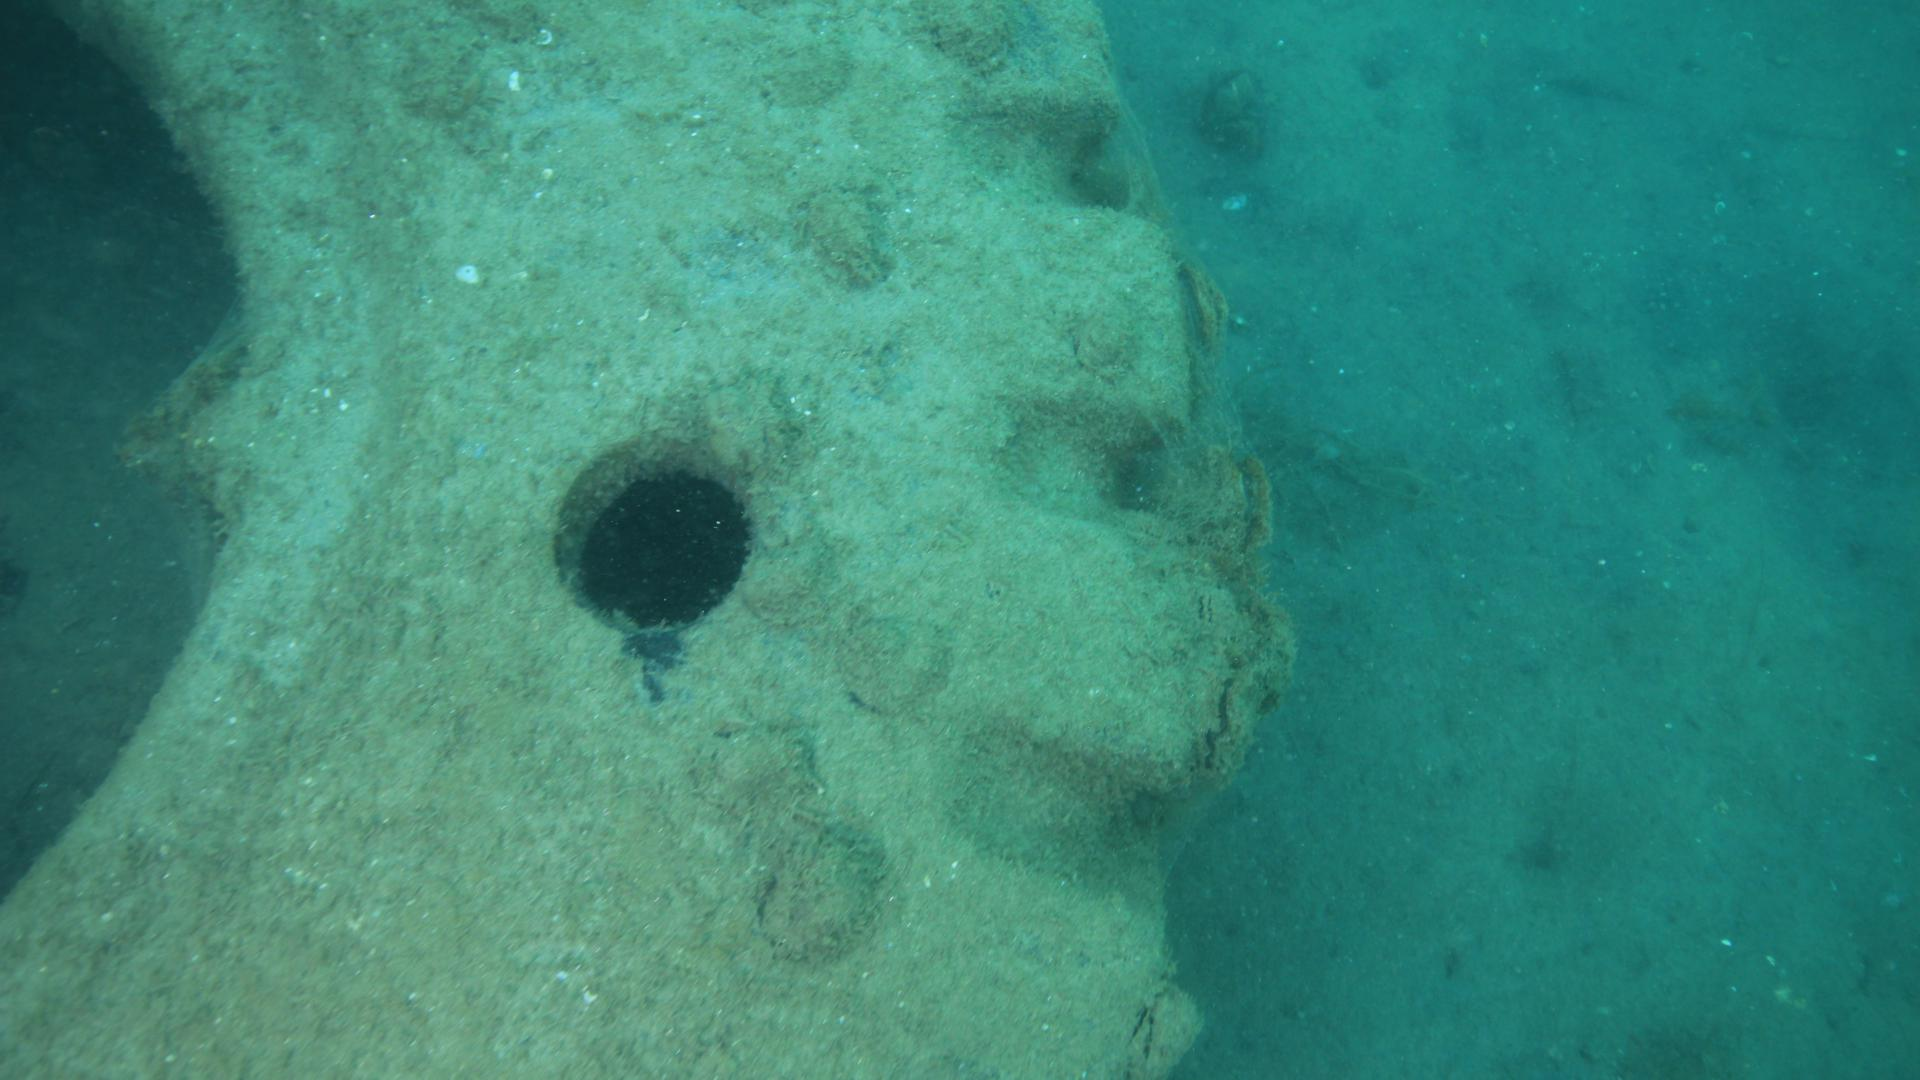tire: (0, 3, 1244, 1080)
